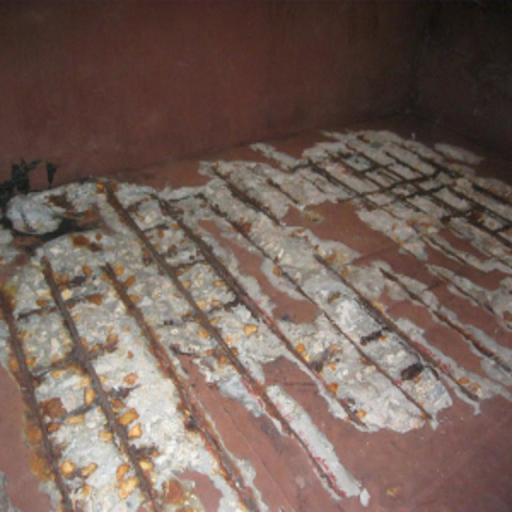spalling: (0, 111, 512, 510)
